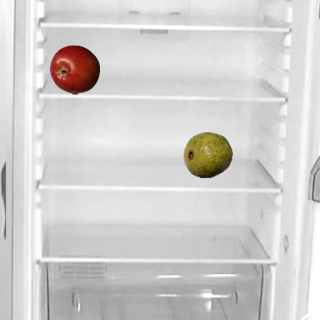Apple Braeburn: (49, 44, 99, 94)
Guava: (182, 129, 232, 179)
